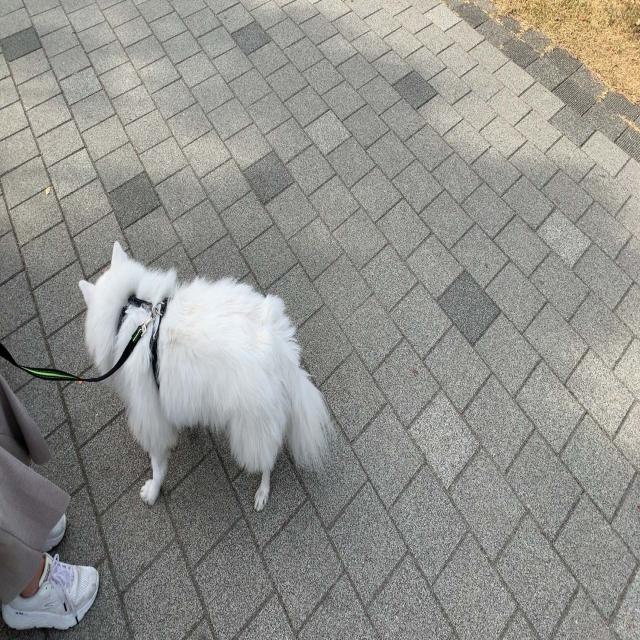Dog: (78, 236, 332, 515)
